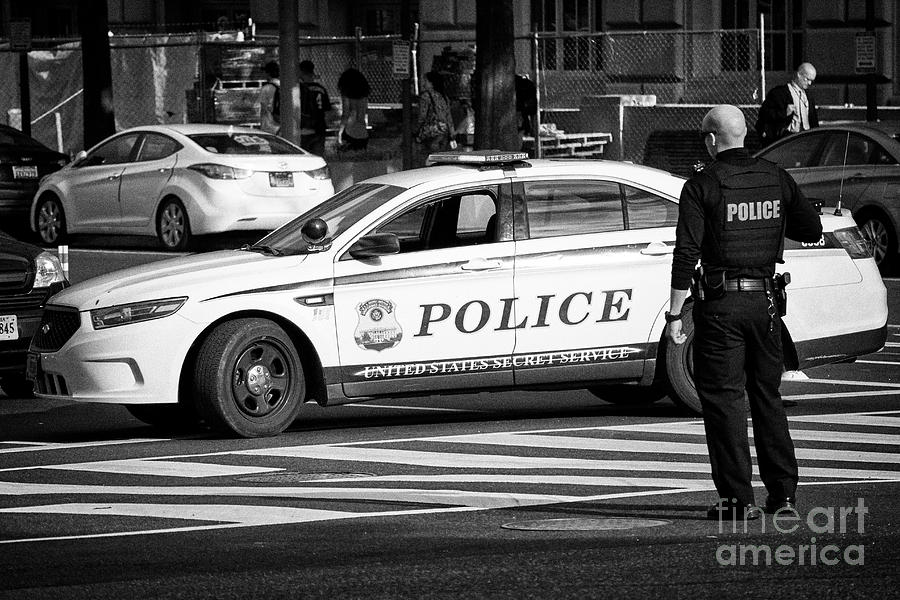Car: (40, 145, 687, 428), (19, 123, 346, 241)
Person: (672, 106, 825, 535)
